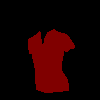polo: (28, 28, 75, 92)
